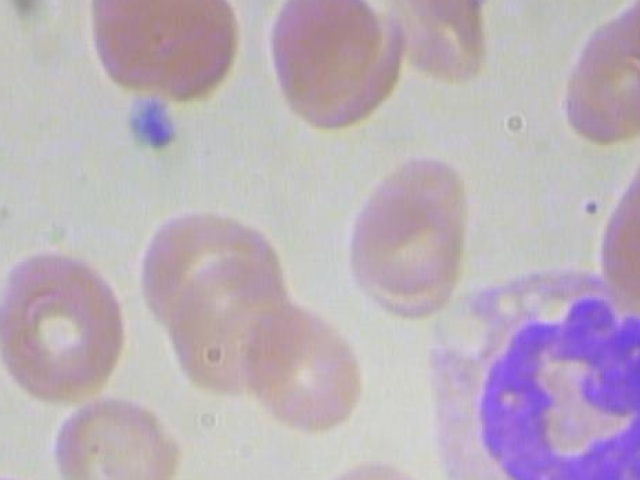Platelets: (119, 89, 178, 148), (0, 246, 2, 306)
RBC: (0, 247, 131, 413), (159, 252, 294, 404), (346, 148, 473, 305), (83, 0, 240, 107), (237, 303, 368, 431), (267, 0, 384, 115), (53, 394, 183, 480), (379, 0, 485, 91), (307, 461, 441, 480), (0, 464, 60, 480)
WBC: (404, 265, 640, 480)
